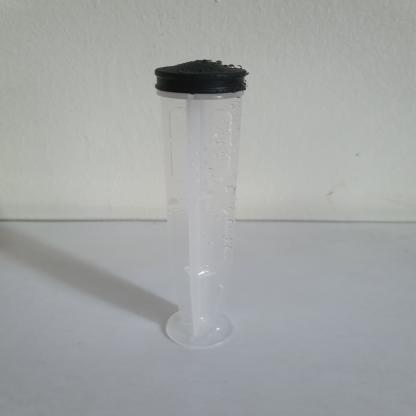wet: (144, 61, 246, 350)
